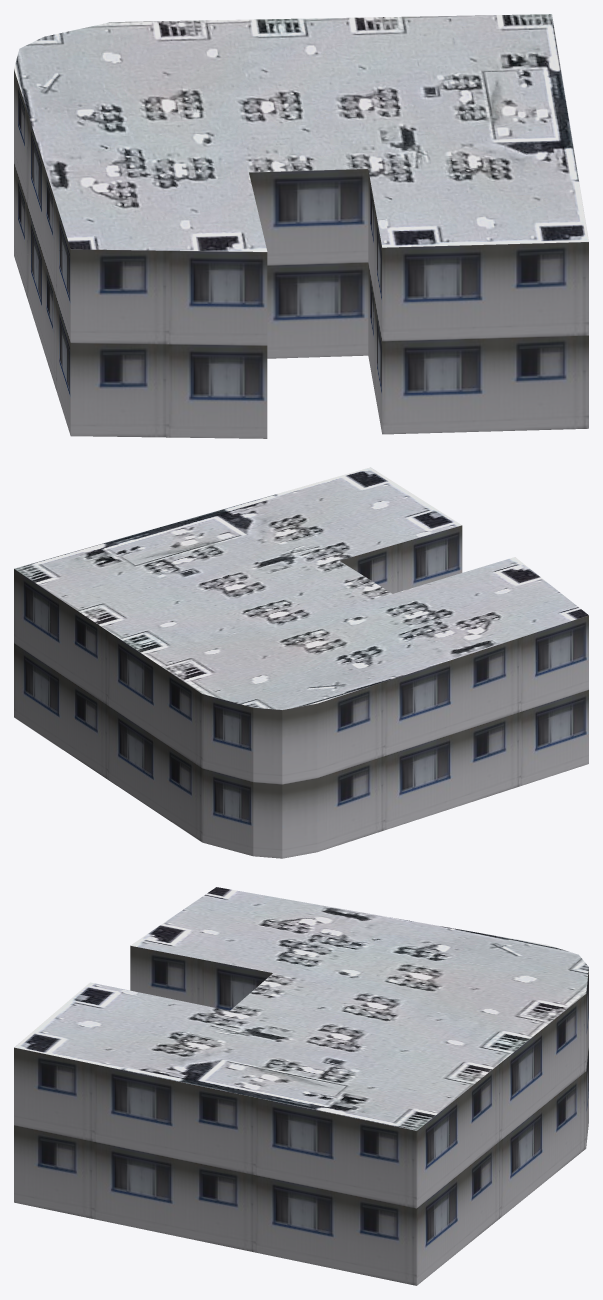
The model's file is ResTex__4676.fbx.
The picture shows the model from 3 angles, top to bottom: view 1: azimuth 30°, elevation 25°; view 2: azimuth 150°, elevation 25°; view 3: azimuth 270°, elevation 25°; orthographic projection. The views are drawn at different scales.
Visible parts, largest first — view 1: CityEngineMaterial_8_m, CityEngineMaterial_9_m; view 2: CityEngineMaterial_9_m, CityEngineMaterial_8_m; view 3: CityEngineMaterial_9_m, CityEngineMaterial_8_m.
Part boxes in pixels (left/top/right/bottom): CityEngineMaterial_8_m: left=14, top=14, right=588, bottom=251; CityEngineMaterial_9_m: left=14, top=69, right=588, bottom=438; CityEngineMaterial_9_m: left=14, top=525, right=588, bottom=858; CityEngineMaterial_8_m: left=14, top=467, right=588, bottom=709; CityEngineMaterial_9_m: left=14, top=945, right=588, bottom=1285; CityEngineMaterial_8_m: left=14, top=887, right=588, bottom=1130.
Bounding box in the file's own units: 20.23 × 6 × 20.16.
Materials: 2 (2 with a texture image).
